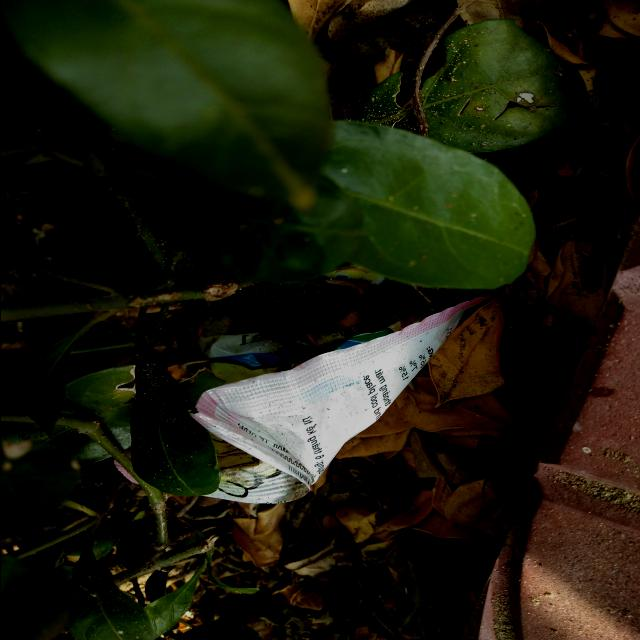Other plastic: (188, 269, 492, 504)
